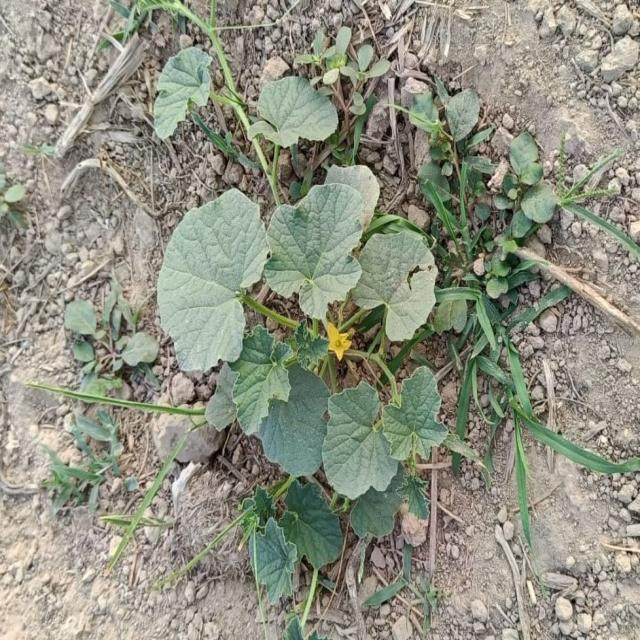plant: (158, 165, 479, 631), (248, 75, 339, 198), (155, 46, 250, 138)
